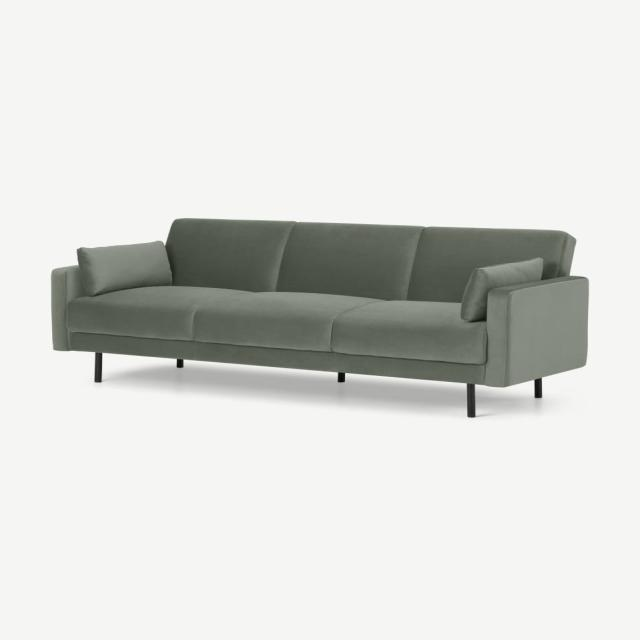back_cushion: (78, 219, 575, 320)
left_arm: (484, 277, 588, 386)
legs: (467, 384, 474, 417), (94, 353, 101, 383), (535, 379, 542, 398), (336, 372, 345, 383), (176, 359, 184, 368)
right_arm: (51, 265, 85, 350)
seat_cushion: (69, 286, 487, 363)
stallion-sofa: (0, 0, 639, 639)
